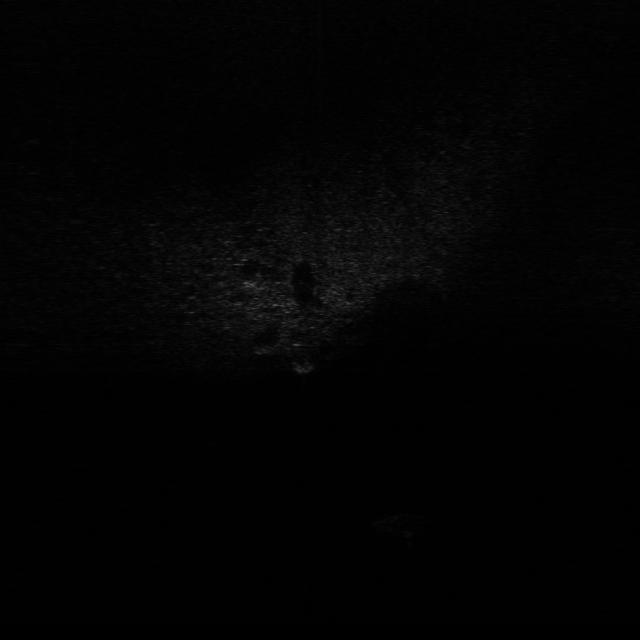circle cage: (373, 510, 432, 540)
cube: (287, 357, 323, 380)
